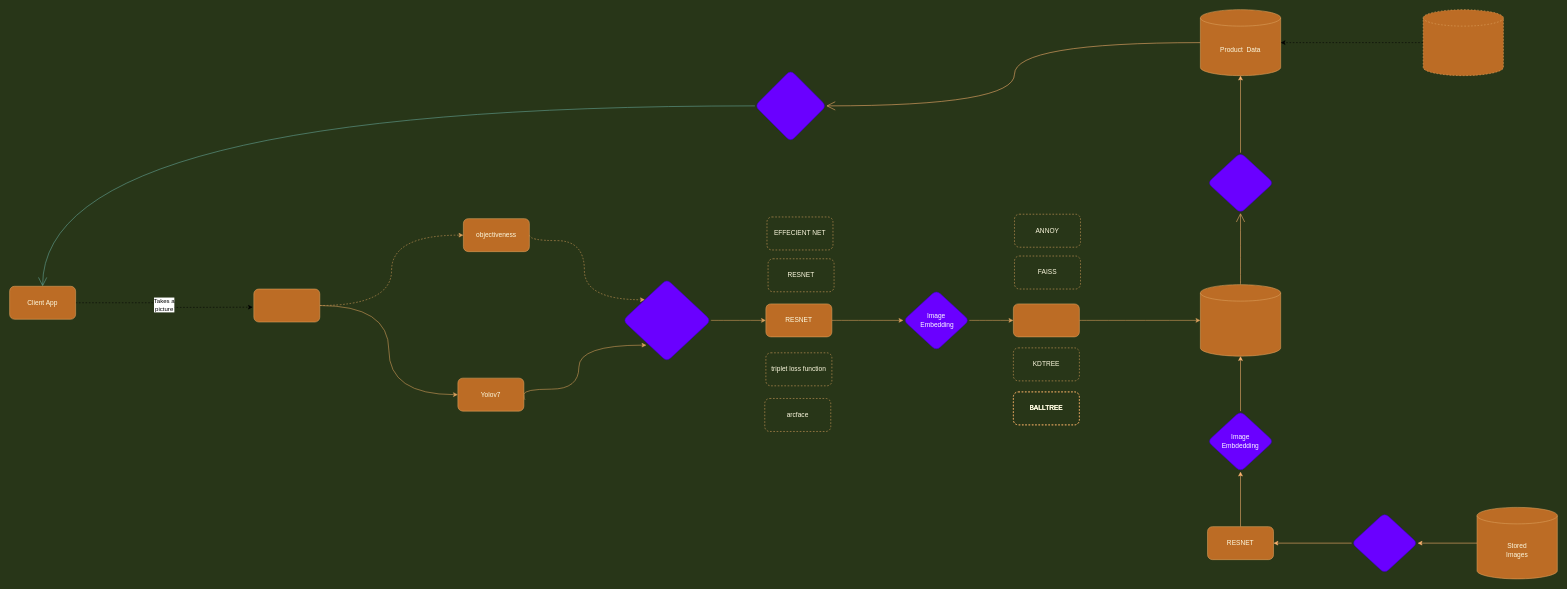
Image size: 1567x589. Some labels were removed from this diagram. The box of each missing label's shape, as (x1, y1, x2, y2) in pixels:
Image clip of object: (622, 279, 711, 362)
Image embeddings: (1200, 284, 1281, 356)
images: (1351, 512, 1418, 573)
Nearest Neighbor search(ANN): (1013, 303, 1079, 337)
Pic: (253, 288, 320, 322)
Product results: (754, 70, 826, 142)
realtime prices Data: (1423, 9, 1503, 76)
TOP X product ids: (1207, 152, 1274, 213)
